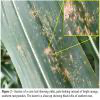Corn rust leaf: (1, 1, 95, 88)
